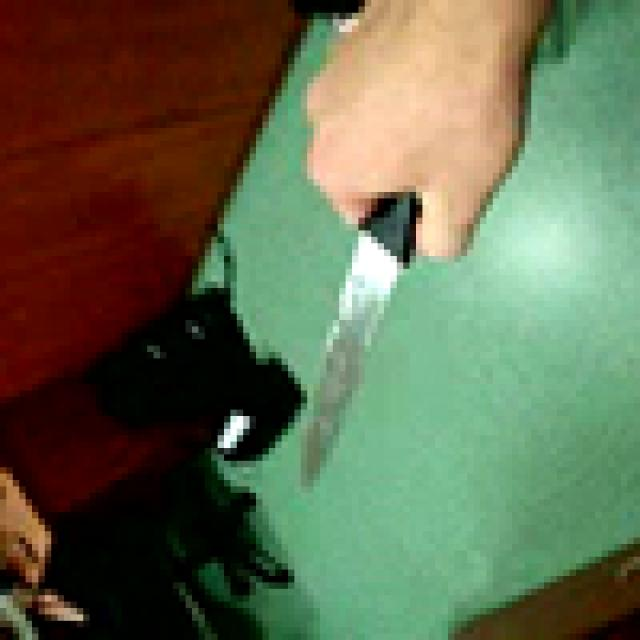Knife: (294, 173, 422, 486)
